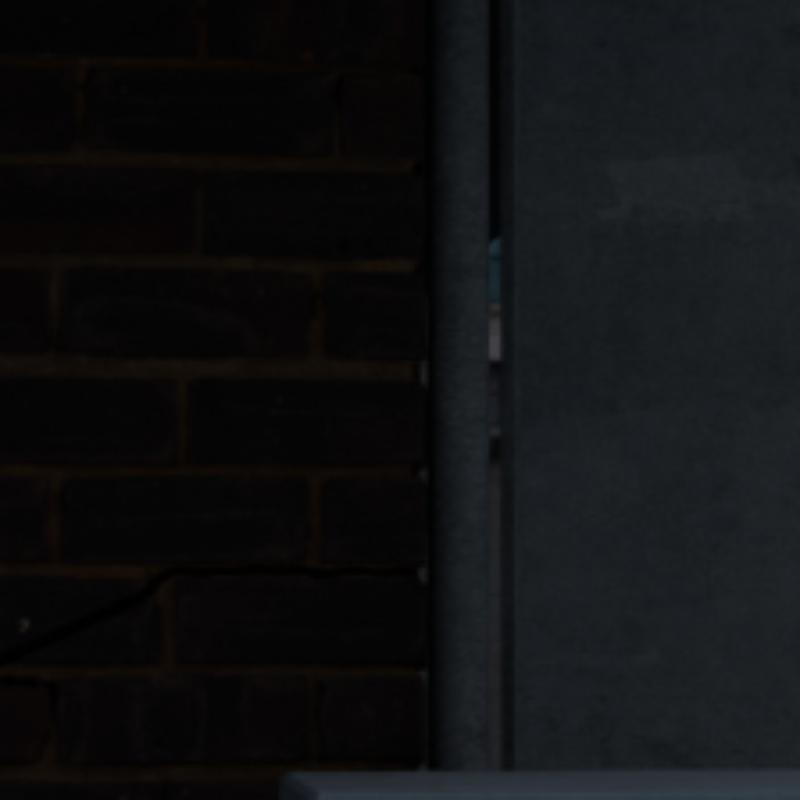pothole: (0, 568, 407, 661)
